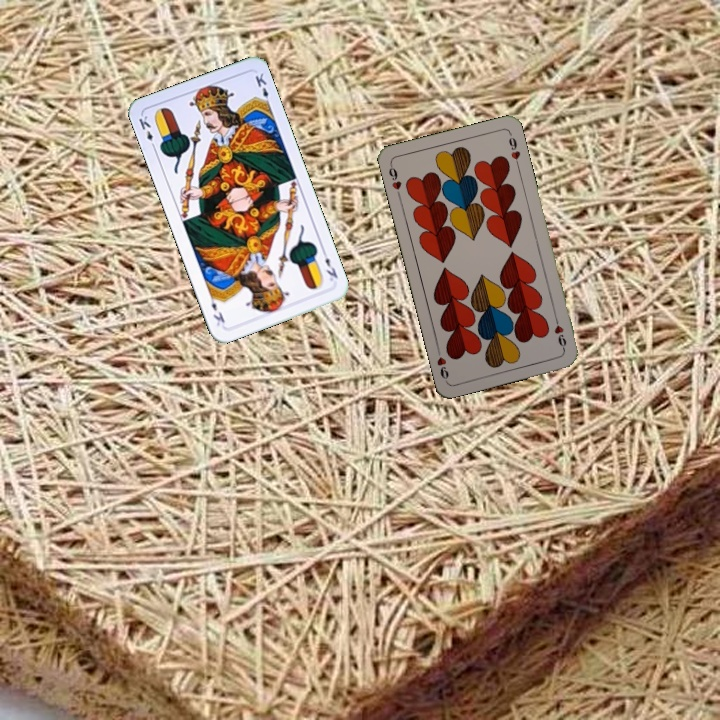EK: (134, 111, 158, 152), (318, 246, 340, 283)
H9: (385, 160, 404, 200), (550, 313, 569, 353)
